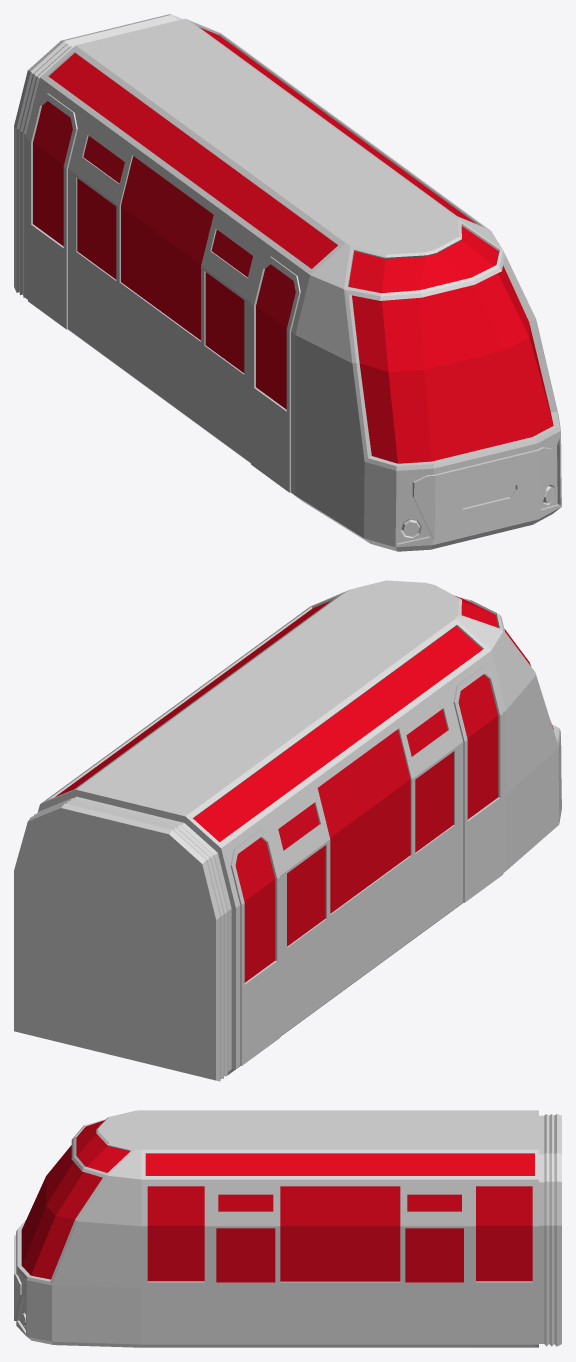
File: SM_tram_01.glb
3 renders of one model, top to bottom at view 1: azimuth 30°, elevation 25°; view 2: azimuth 150°, elevation 25°; view 3: azimuth 270°, elevation 25°, orthographic. The views are drawn at different scales.
Visible parts, largest first — view 1: tram_01; view 2: tram_01; view 3: tram_01.
Part boxes in pixels (x1,y1,x2,y2): tram_01: (14, 14, 561, 551); tram_01: (14, 580, 561, 1081); tram_01: (14, 1110, 561, 1347).
Size of the model in its own units: 1.63 by 1.82 by 4.94.
